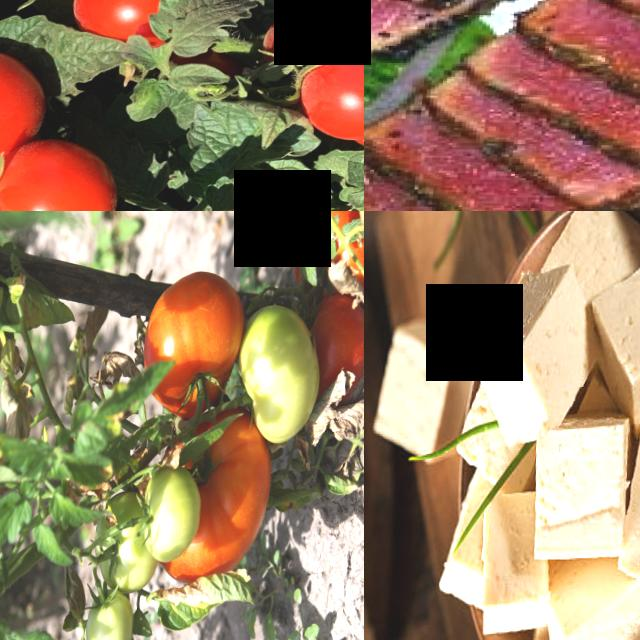tofu: (476, 263, 607, 415), (534, 418, 640, 559), (378, 307, 483, 440), (594, 283, 640, 408), (485, 560, 560, 634), (552, 585, 640, 640)
tomato: (143, 266, 249, 409), (236, 303, 329, 441), (0, 137, 131, 211), (0, 46, 58, 164), (144, 464, 210, 557)
